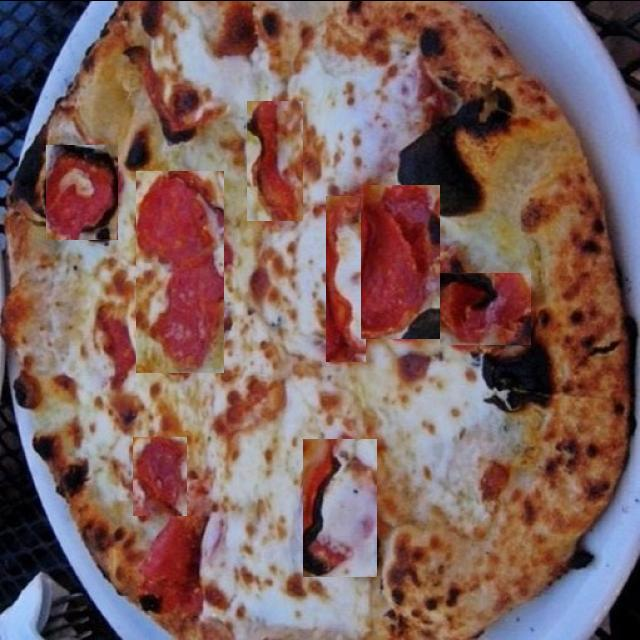pepperoni: (136, 170, 224, 372), (361, 184, 440, 338), (303, 438, 377, 576), (46, 144, 118, 239), (248, 100, 304, 220), (326, 195, 366, 361), (440, 272, 531, 344), (140, 510, 202, 614), (133, 436, 187, 515)
pizza: (3, 0, 629, 640)
